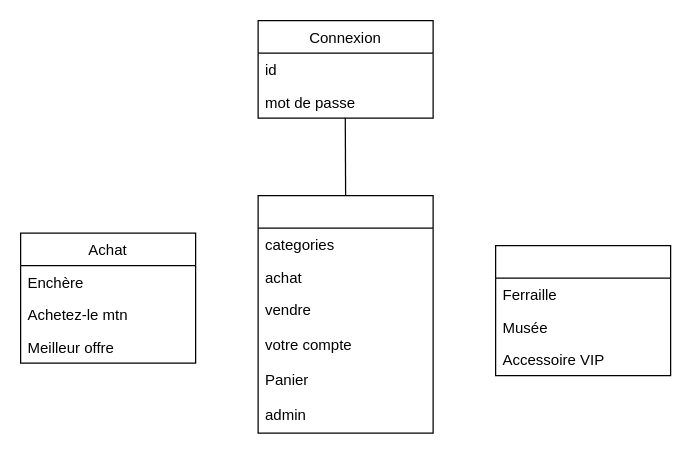
Image size: 691x454. Some labels were removed from this diagram. Here are the shapes that lost their labels. From the top down, the box of each, then its label:
(257, 194, 433, 433): Home
(494, 244, 671, 376): Catégorie
